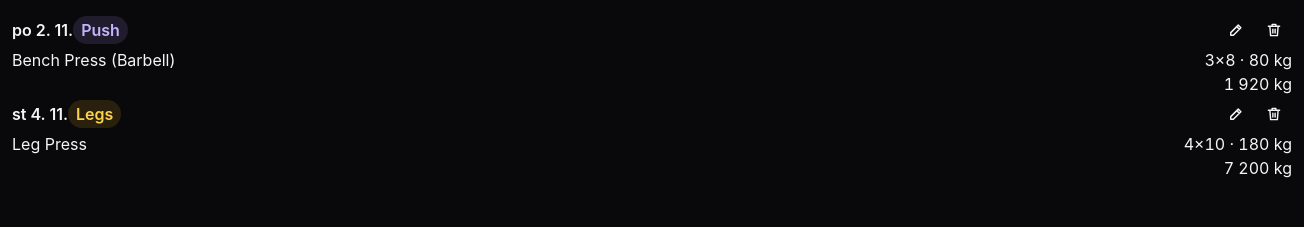
Scenario: WorkoutList deleting › a rejection without a message still says what failed
This screenshot has width=1304, height=227.
Click the button named "Smazat trénink 2026-11-04". click: (1274, 114)
box: [1256,96,1292,132]
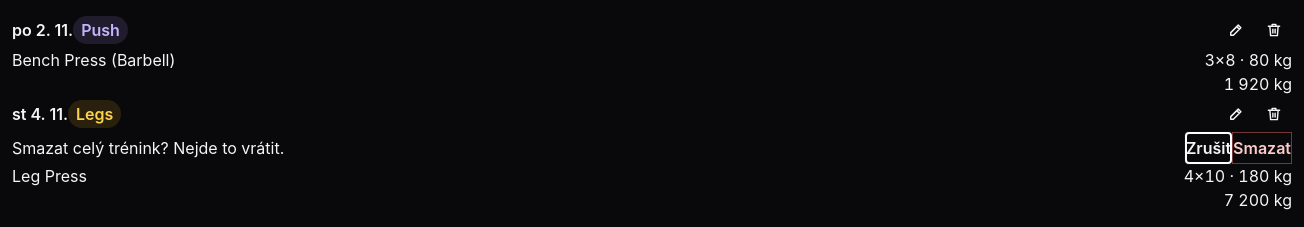
Click the button "Smazat". click: (1262, 148)
box: [1232,132,1292,164]
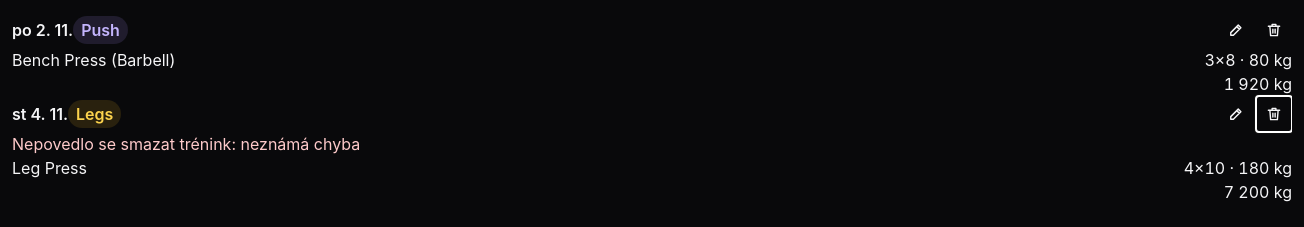
Expected: the message reads "Nepovedlo se smazat trénink: neznámá chyba", [12,134,360,154]
